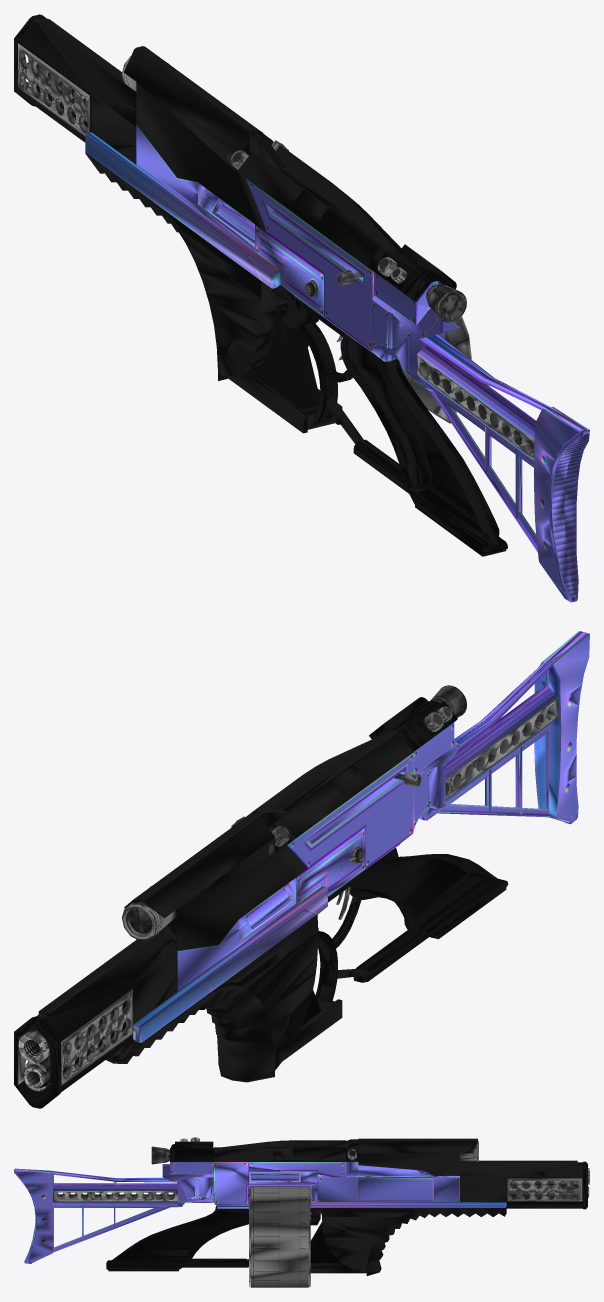
The model's file is Futuristic_Weapon_Concept_Lowpoly2.obj.
3 views of the same model, one above another, from view 1: azimuth 30°, elevation 25°; view 2: azimuth 150°, elevation 25°; view 3: azimuth 270°, elevation 25° (orthographic). The views are drawn at different scales.
Visible parts, largest first — view 1: Cube_011, Cube_001, Cube_010, Cube_006, Cube_004, Cube_007, Cube, Cube_012, Cube_009, Cube_005; view 2: Cube_011, Cube_001, Cube_010, Cube_006, Cube_004, Cube_007, Cube, Cube_008, Cube_012, Cube_005; view 3: Cube_011, Cube_001, Cube_005, Cube_010, Cube_004, Cube_006, Cube_007, Cube_008, Cube_012, Cube_009.
Part boxes in pixels (x1=…): Cube_011: x1=85, y1=124, x2=589, y2=602; Cube_001: x1=18, y1=18, x2=396, y2=444; Cube_010: x1=38, y1=22, x2=401, y2=382; Cube_006: x1=14, y1=14, x2=507, y2=556; Cube_004: x1=18, y1=43, x2=534, y2=459; Cube_007: x1=340, y1=333, x2=505, y2=547; Cube: x1=246, y1=179, x2=372, y2=350; Cube_012: x1=210, y1=198, x2=587, y2=552; Cube_009: x1=250, y1=302, x2=319, y2=410; Cube_005: x1=122, y1=56, x2=466, y2=411; Cube_011: x1=133, y1=631, x2=589, y2=1042; Cube_001: x1=36, y1=729, x2=397, y2=1070; Cube_010: x1=38, y1=734, x2=413, y2=1061; Cube_006: x1=14, y1=697, x2=508, y2=1108; Cube_004: x1=18, y1=697, x2=558, y2=1091; Cube_007: x1=355, y1=848, x2=505, y2=934; Cube: x1=287, y1=753, x2=413, y2=868; Cube_008: x1=106, y1=985, x2=274, y2=1080; Cube_012: x1=243, y1=631, x2=587, y2=931; Cube_005: x1=122, y1=685, x2=466, y2=940; Cube_011: x1=14, y1=1162, x2=506, y2=1263; Cube_001: x1=214, y1=1138, x2=582, y2=1273; Cube_005: x1=151, y1=1141, x2=478, y2=1287; Cube_010: x1=214, y1=1139, x2=577, y2=1216; Cube_004: x1=53, y1=1137, x2=589, y2=1287; Cube_006: x1=106, y1=1141, x2=587, y2=1275; Cube_007: x1=108, y1=1206, x2=248, y2=1266; Cube_008: x1=366, y1=1208, x2=505, y2=1272; Cube_012: x1=15, y1=1168, x2=300, y2=1252; Cube_009: x1=310, y1=1222, x2=341, y2=1263.
Bounding box in the file's own units: 3.5 × 5.42 × 21.7.
